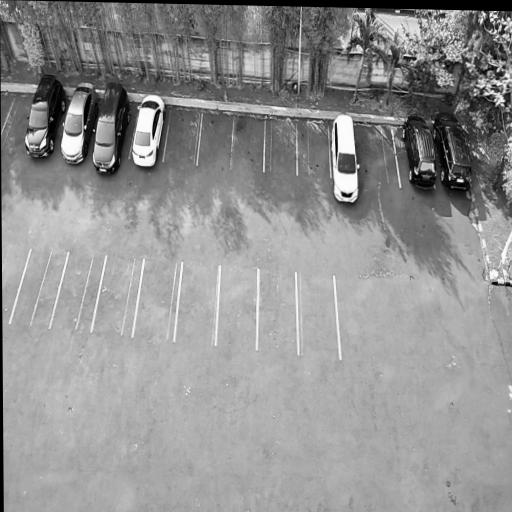Car: (87, 74, 134, 179), (20, 67, 70, 161), (429, 106, 478, 201), (53, 72, 102, 167), (398, 106, 443, 195), (129, 89, 170, 170), (330, 107, 361, 207)
Space Available: (10, 248, 68, 327), (50, 252, 106, 331), (91, 256, 144, 336), (133, 257, 181, 339), (296, 271, 340, 358), (175, 261, 221, 344), (257, 267, 299, 354), (216, 263, 258, 349), (2, 244, 31, 322), (164, 106, 202, 164), (197, 110, 234, 167), (231, 114, 265, 171), (264, 118, 298, 173), (297, 122, 331, 175), (1, 93, 34, 138)
